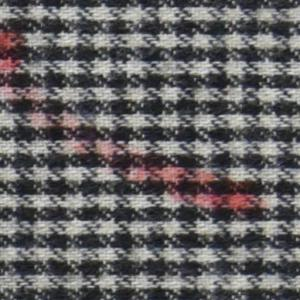Stain: (1, 24, 269, 232)
